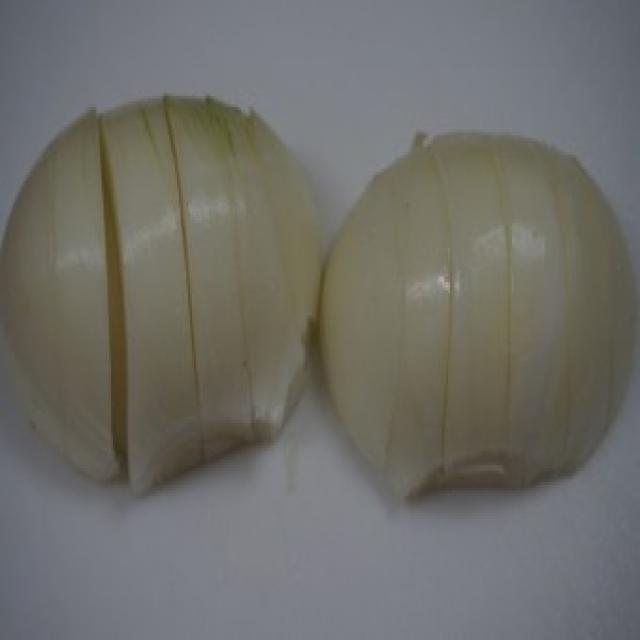onion: (1, 79, 318, 479), (322, 128, 634, 520)
